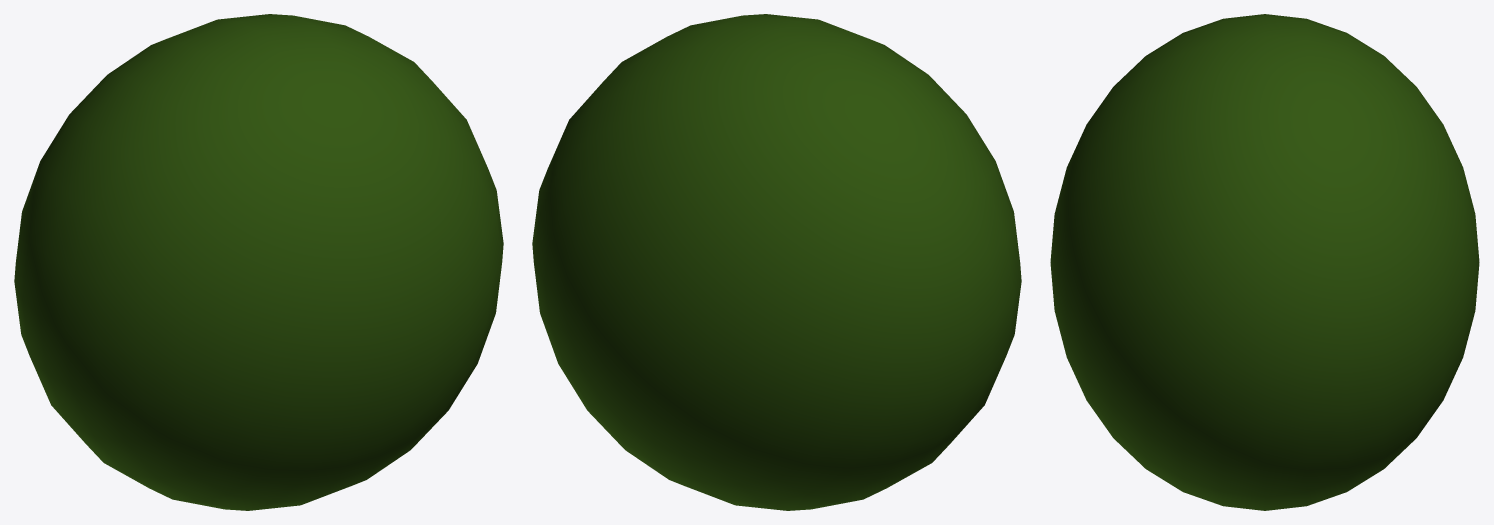
File: tomato_plant_fruiting_1_fruit_2.obj
3 views of the same model, side by side, from view 1: azimuth 30°, elevation 25°; view 2: azimuth 150°, elevation 25°; view 3: azimuth 270°, elevation 25° (orthographic).
Bounding box in the file's own units: 0.0836 × 0.0836 × 0.0719.
